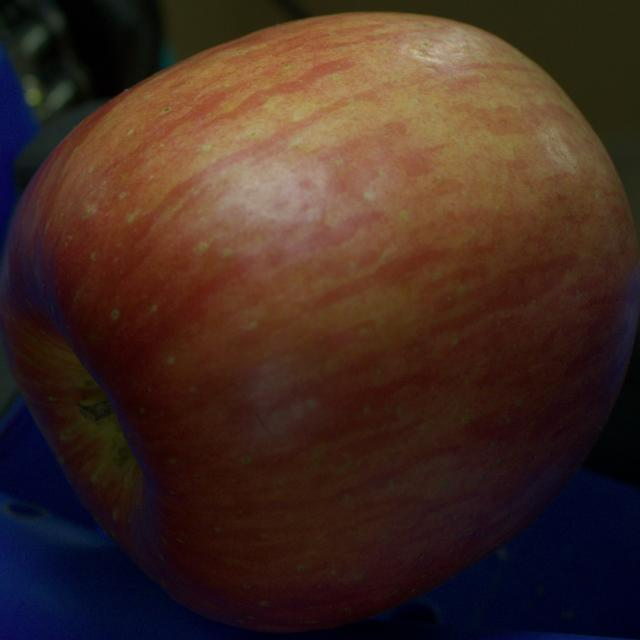apple: (0, 14, 639, 632)
